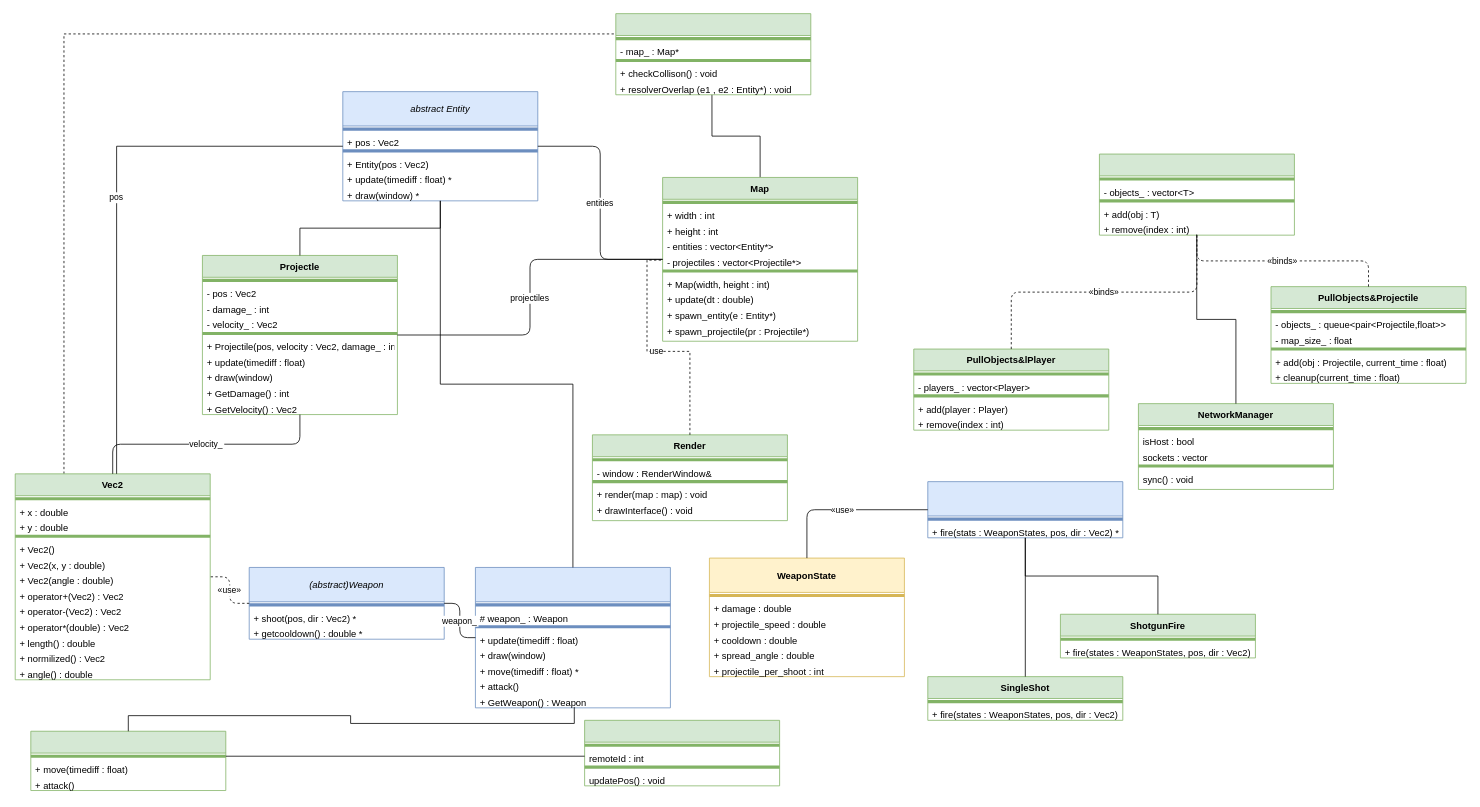
Image size: 1480x807. Some labels were removed from this diagram. The box of each missing label's shape, as (x1, y1, x2, y2) in pixels:
(abstract)Charecter: (475, 567, 670, 708)
(abstract)FireMode: (927, 481, 1123, 538)
CollisionManager: (615, 13, 811, 95)
NetPlayer: (584, 720, 780, 786)
Player: (30, 730, 226, 791)
PullObjects: (1099, 153, 1294, 235)
